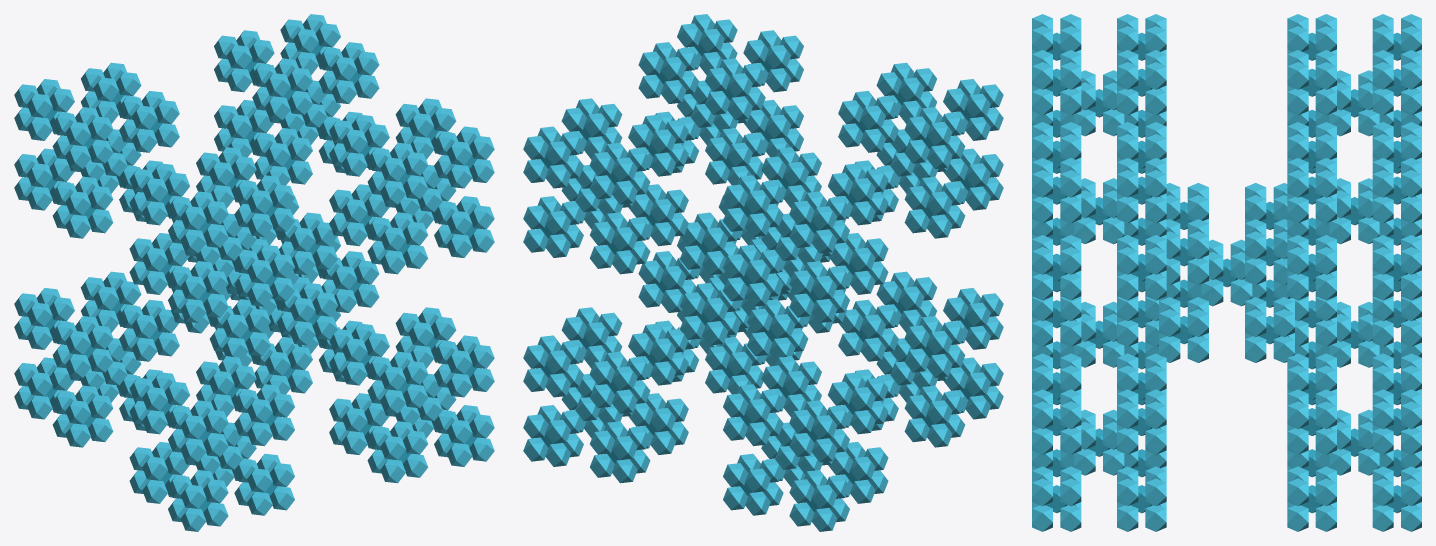
The model's file is fractalcuboctahedron3.glb.
3 renders of one model, left to right at view 1: azimuth 30°, elevation 25°; view 2: azimuth 150°, elevation 25°; view 3: azimuth 270°, elevation 25°, orthographic. The views are drawn at different scales.
Size of the model in its own units: 5.98 by 5.98 by 5.98.
